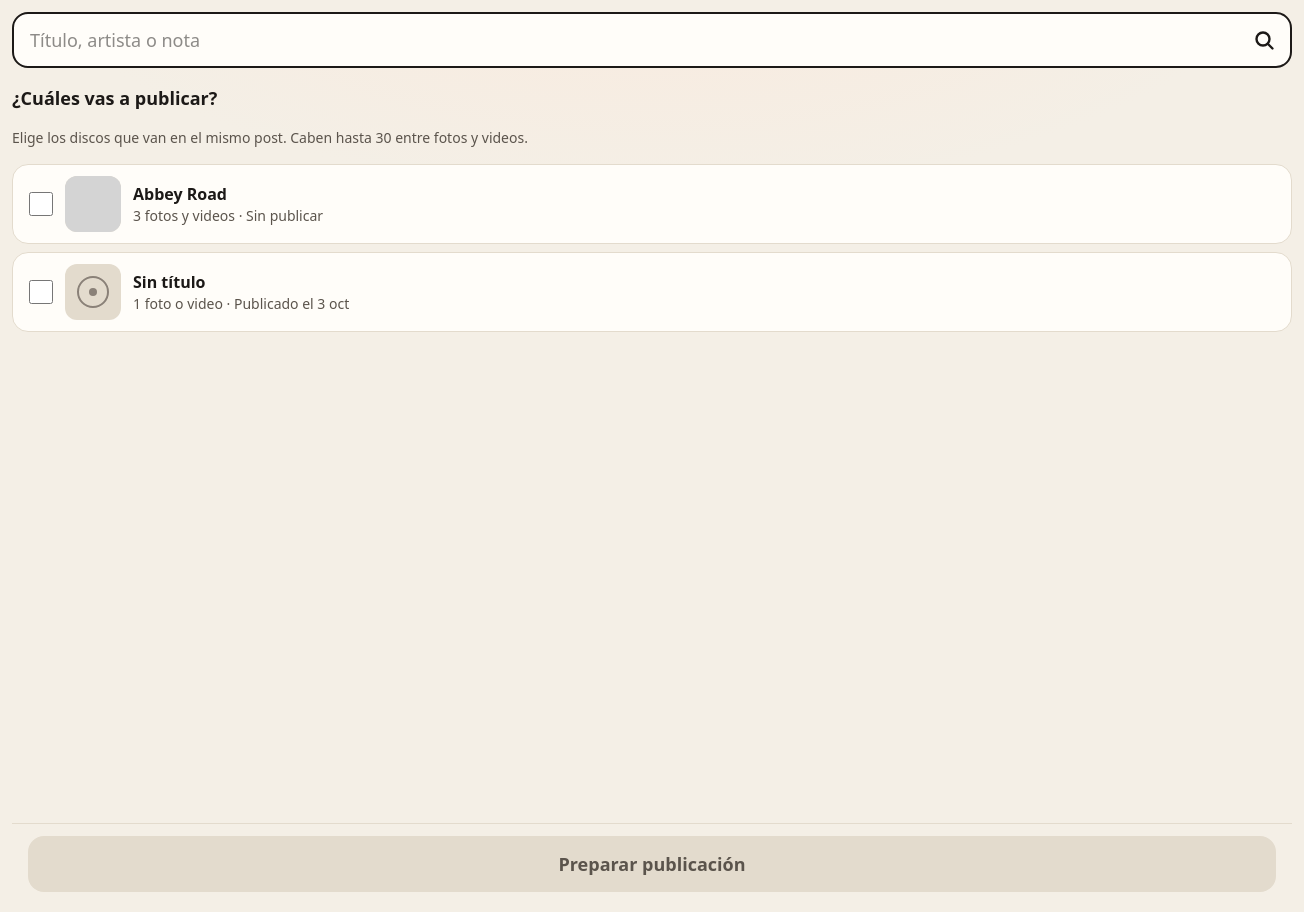
Test: PublishPicker › cannot prepare anything until a disc is chosen, then prepares exactly the chosen ones
The width and height of the screenshot is (1304, 912).
Click the checkbox labelled "Abbey Road 3 fotos y videos · Sin publicar". click: click(41, 204)
box: [29, 192, 53, 216]
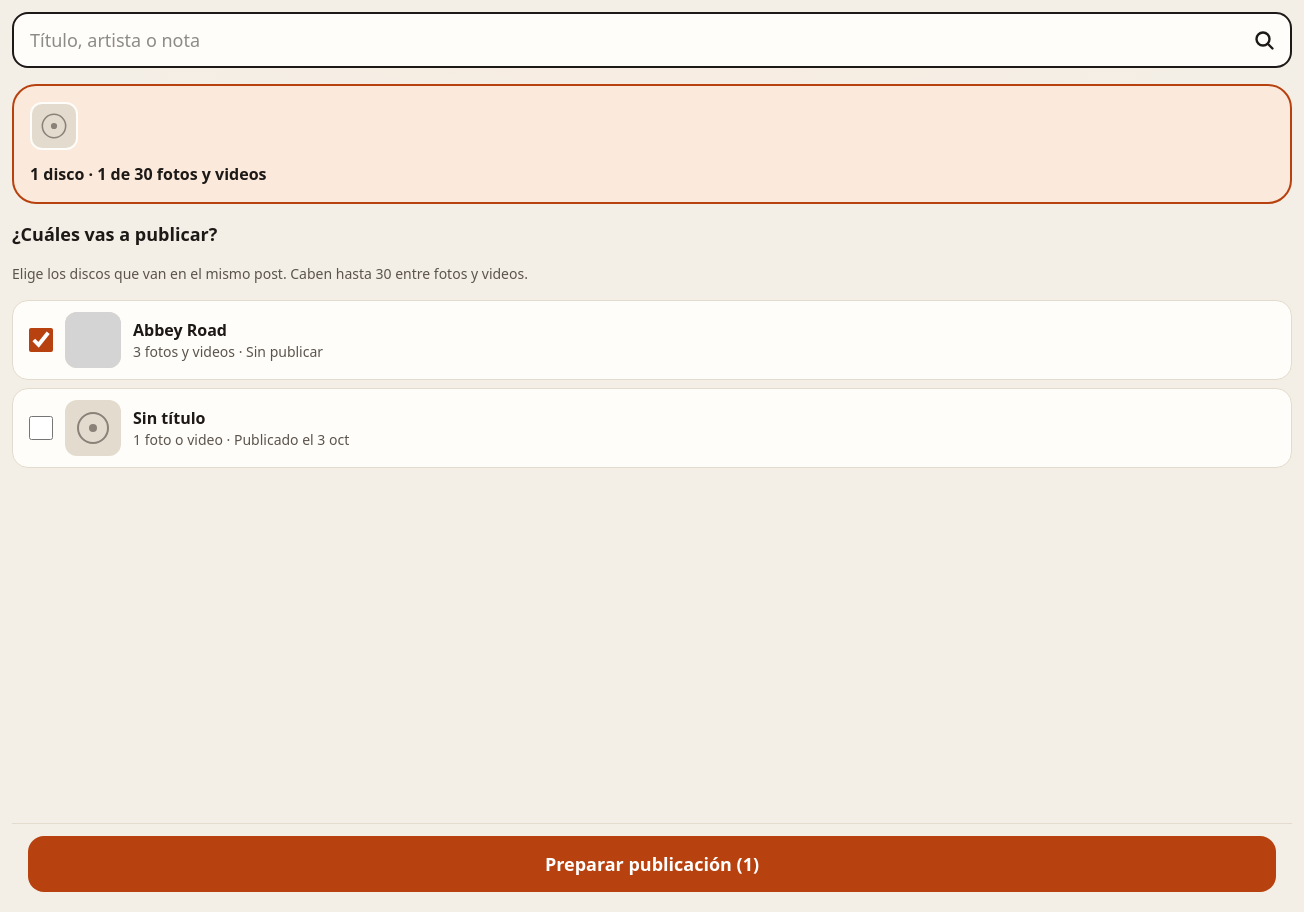
Check: the link "Preparar publicación (1)" is shown, box [28, 836, 1276, 892]
